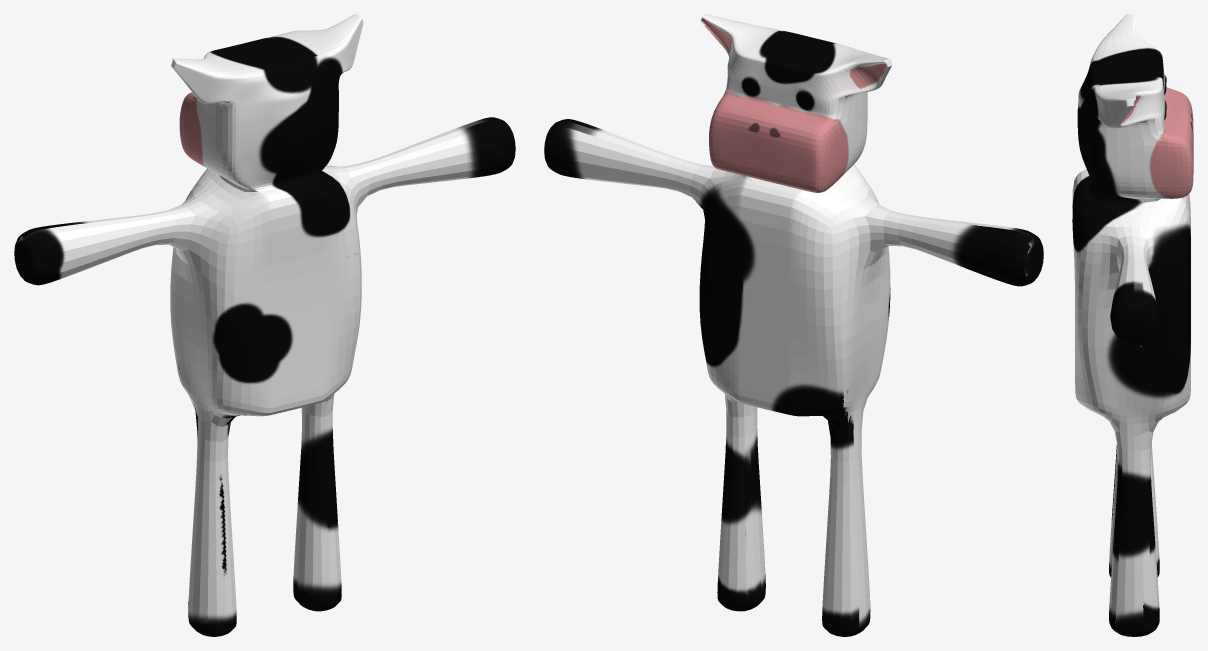
The model's file is coramodel.fbx.
3 views of the same model, side by side, from view 1: azimuth 30°, elevation 25°; view 2: azimuth 150°, elevation 25°; view 3: azimuth 270°, elevation 25° (orthographic). The views are drawn at different scales.
Parts seen in each view (by area): view 1: Cube; view 2: Cube; view 3: Cube.
Part boxes in pixels (bbox=[...]): Cube: bbox=[14, 14, 515, 636]; Cube: bbox=[544, 14, 1043, 636]; Cube: bbox=[1072, 14, 1193, 636].
Size of the model in its own units: 459 by 524 by 104.
